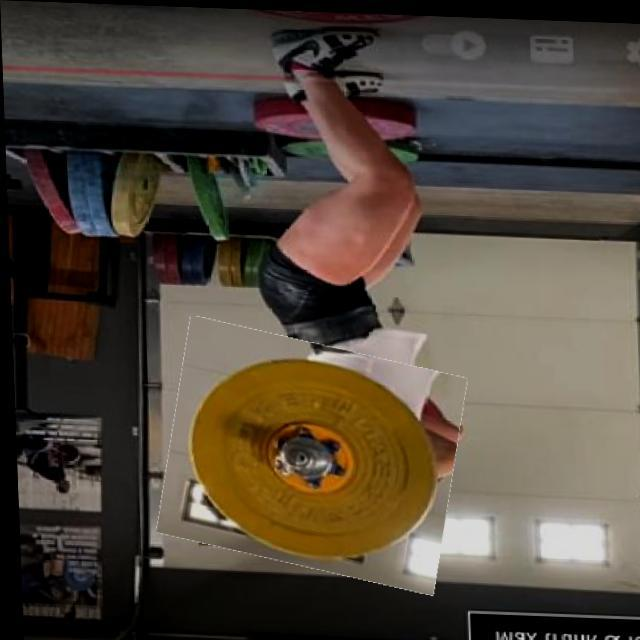barbell: (157, 326, 462, 582)
